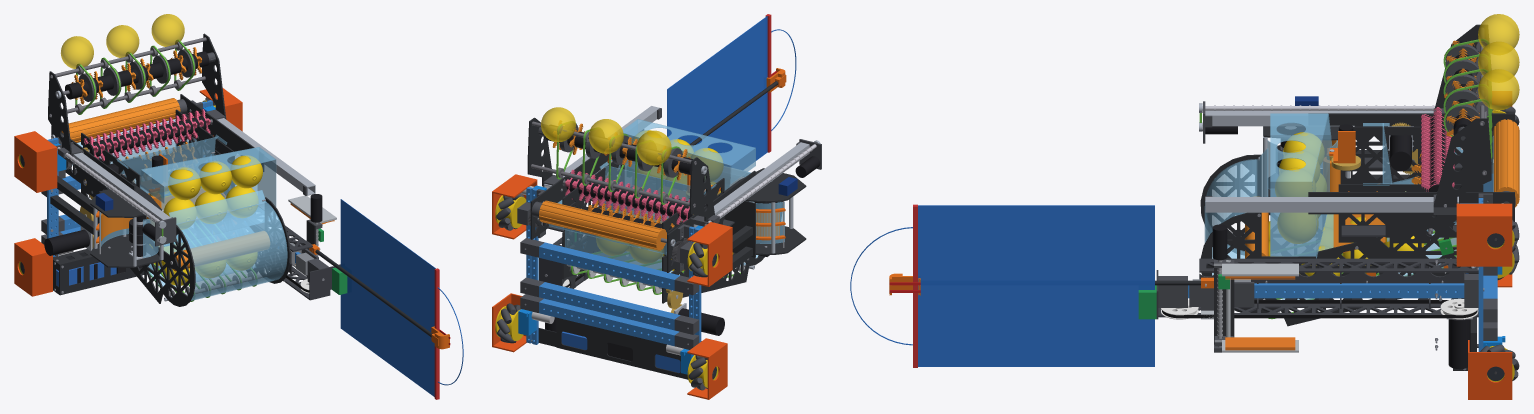
File: storm_breaker_v22.glb
3 views of the same model, side by side, from view 1: azimuth 30°, elevation 25°; view 2: azimuth 150°, elevation 25°; view 3: azimuth 270°, elevation 25° (orthographic). The views are drawn at different scales.
Parts seen in each view (by area): view 1: REF_bandera_tela_400x300, TW_cubierta_codo_PC_1_5, CN_paredes_canasta_PC_1, TW_placa_lateral_izq_CF3, TW_placa_lateral_der_CF3, INT_LR_manguito_TPU_D44, CH_guarda_rueda_del_izq_PETG, INT_centrador_helicoidal_TPU, CH_guarda_rueda_tras_izq_PETG, CN_piso_canasta_PC_1_2, TW_rodillo_codo_manga_PETG_TPU_D40, INT_UR_nucleo_D32 (+44 smaller); view 2: REF_bandera_tela_400x300, CH_travesanos_square_beam_2424_312_x3, ELB_caja_piso_CF2_estructural, INT_LR_manguito_TPU_D44, CN_paredes_canasta_PC_1, CH_calzas_travesano_impresas_x6, CN_piso_canasta_PC_1_2, INT_piso_entrada_ancho_PC, CH_guarda_rueda_del_izq_PETG, INT_centrador_helicoidal_TPU, CH_guarda_rueda_tras_izq_PETG, TW_placa_lateral_der_CF3 (+58 smaller); view 3: REF_bandera_tela_400x300, CN_paredes_canasta_PC_1, TW_placa_lateral_der_CF3, TW_placa_lateral_izq_CF3, INT_UR_riel_tubo_CF_20x20_430_der, CH_guarda_rueda_del_der_PETG, INT_placa_lateral_der_CF3, ELV_riel_slide_beam_496_kit, INT_UR_brazo_der_CF3, MAS_placa_delantera_CF3, MAS_mamparo_interior_CF3, MAS_placa_trasera_CF3 (+31 smaller).
Boxes of the visible parts, <box> form: REF_bandera_tela_400x300: <box>340,199,435,396</box>; TW_cubierta_codo_PC_1_5: <box>176,202,287,300</box>; CN_paredes_canasta_PC_1: <box>140,147,276,246</box>; TW_placa_lateral_izq_CF3: <box>81,133,195,306</box>; TW_placa_lateral_der_CF3: <box>175,109,290,283</box>; INT_LR_manguito_TPU_D44: <box>61,98,180,142</box>; CH_guarda_rueda_del_izq_PETG: <box>14,131,57,192</box>; INT_centrador_helicoidal_TPU: <box>84,109,210,161</box>; CH_guarda_rueda_tras_izq_PETG: <box>14,238,52,296</box>; CN_piso_canasta_PC_1_2: <box>140,147,259,218</box>; TW_rodillo_codo_manga_PETG_TPU_D40: <box>173,231,269,271</box>; INT_UR_nucleo_D32: <box>65,51,209,99</box>; REF_bandera_tela_400x300: <box>667,16,767,169</box>; CH_travesanos_square_beam_2424_312_x3: <box>539,242,680,346</box>; ELB_caja_piso_CF2_estructural: <box>538,317,687,379</box>; INT_LR_manguito_TPU_D44: <box>539,200,666,250</box>; CN_paredes_canasta_PC_1: <box>618,119,755,184</box>; CH_calzas_travesano_impresas_x6: <box>520,238,699,349</box>; CN_piso_canasta_PC_1_2: <box>618,133,730,200</box>; INT_piso_entrada_ancho_PC: <box>565,229,663,270</box>; CH_guarda_rueda_del_izq_PETG: <box>687,222,732,286</box>; INT_centrador_helicoidal_TPU: <box>565,169,689,224</box>; CH_guarda_rueda_tras_izq_PETG: <box>687,338,727,399</box>; TW_placa_lateral_der_CF3: <box>562,161,633,279</box>; REF_bandera_tela_400x300: <box>918,205,1154,366</box>; CN_paredes_canasta_PC_1: <box>1270,113,1329,256</box>; TW_placa_lateral_der_CF3: <box>1200,184,1483,326</box>; TW_placa_lateral_izq_CF3: <box>1200,126,1462,255</box>; INT_UR_riel_tubo_CF_20x20_430_der: <box>1205,197,1458,212</box>; CH_guarda_rueda_del_der_PETG: <box>1456,203,1512,266</box>; INT_placa_lateral_der_CF3: <box>1308,192,1514,243</box>; ELV_riel_slide_beam_496_kit: <box>1188,283,1464,298</box>; INT_UR_brazo_der_CF3: <box>1433,118,1491,207</box>; MAS_placa_delantera_CF3: <box>1199,258,1478,272</box>; MAS_mamparo_interior_CF3: <box>1199,263,1465,299</box>; MAS_placa_trasera_CF3: <box>1158,303,1478,317</box>.
Bounding box in the file's own units: 0.4995 × 0.5469 × 1.13.
